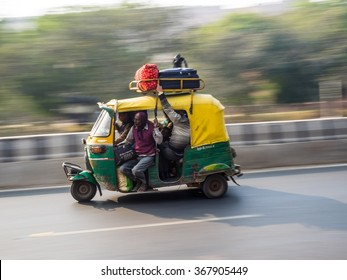threewheel: (62, 91, 241, 203)
